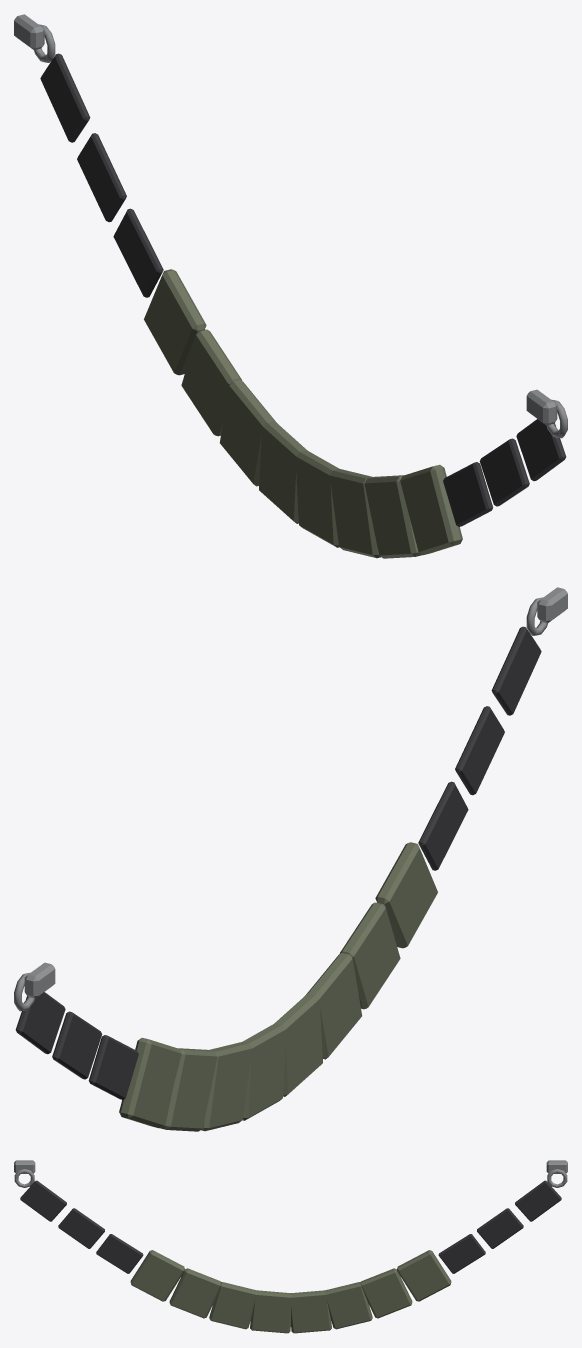
Rendered from part_nosny.glb.
3 renders of one model, top to bottom at view 1: azimuth 30°, elevation 25°; view 2: azimuth 150°, elevation 25°; view 3: azimuth 270°, elevation 25°, orthographic. The views are drawn at different scales.
Visible parts, largest first — view 1: Nosny; view 2: Nosny; view 3: Nosny.
Boxes of the visible parts, x1,y1,x2,y2 form: Nosny: [14, 14, 567, 558]; Nosny: [14, 587, 567, 1131]; Nosny: [14, 1160, 567, 1333].
Bounding box in the file's own units: 0.018 × 0.1726 × 0.52.
